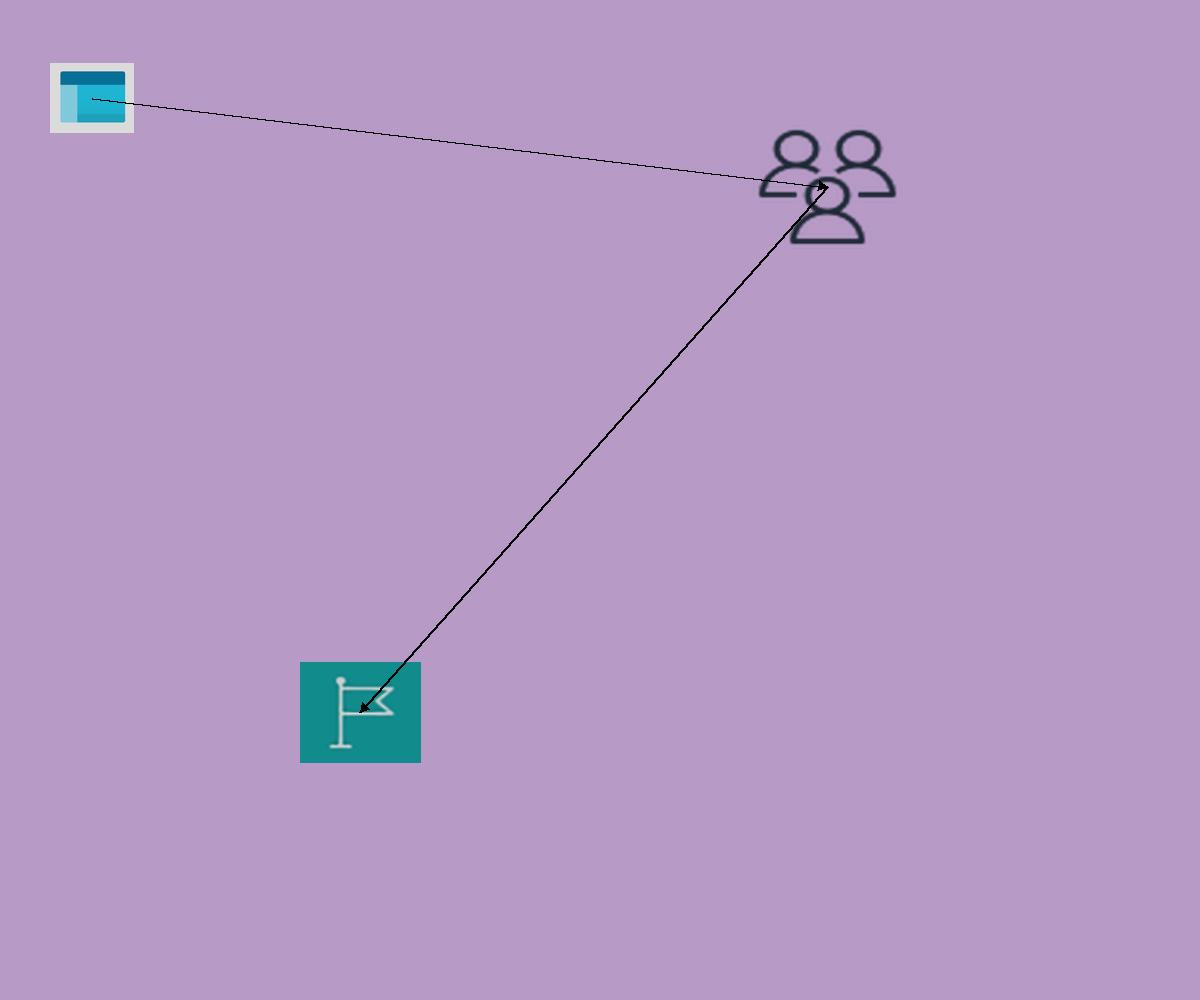AWS-Region: (300, 662, 421, 763)
AWS-Res_Users: (753, 125, 902, 249)
Azure_management-portal: (50, 63, 134, 133)
